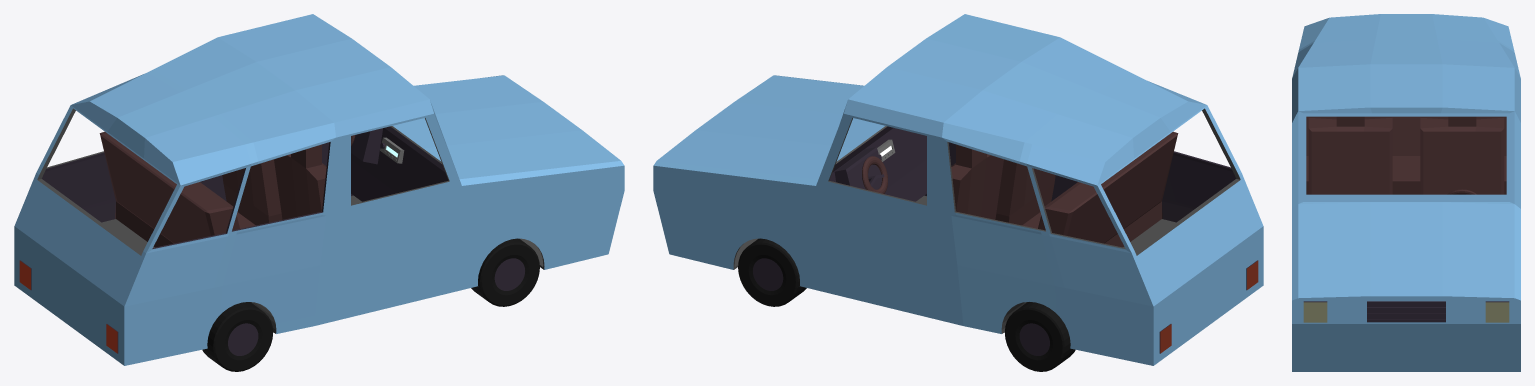
Rendered from Car.glb.
3 views of the same model, side by side, from view 1: azimuth 30°, elevation 25°; view 2: azimuth 150°, elevation 25°; view 3: azimuth 270°, elevation 25° (orthographic). The views are drawn at different scales.
Visible parts, largest first — view 1: Cube, Cube.002, Cylinder, Cube.001, Cube.003, Cube.008; view 2: Cube, Cube.002, Cylinder, Cube.001, Cube.003, Cube.008, Torus; view 3: Cube, Cube.001, Cube.002, Cube.006.
Part boxes in pixels (x1,y1,x2,y2): Cube: (14,14,624,365); Cube.002: (83,131,255,252); Cylinder: (202,238,539,371); Cube.001: (222,144,326,225); Cube.003: (351,128,382,164); Cube.008: (19,260,118,353); Cube: (653,14,1263,365); Cube.002: (1022,131,1194,252); Cylinder: (738,238,1075,371); Cube.001: (951,144,1055,225); Cube.003: (834,147,881,189); Cube.008: (1159,260,1258,353); Torus: (862,156,887,193); Cube: (1292,14,1520,371); Cube.001: (1308,116,1504,194); Cube.002: (1306,116,1506,194); Cube.006: (1303,301,1509,322).
Bounding box in the file's own units: 3.73 × 1.63 × 1.6.
